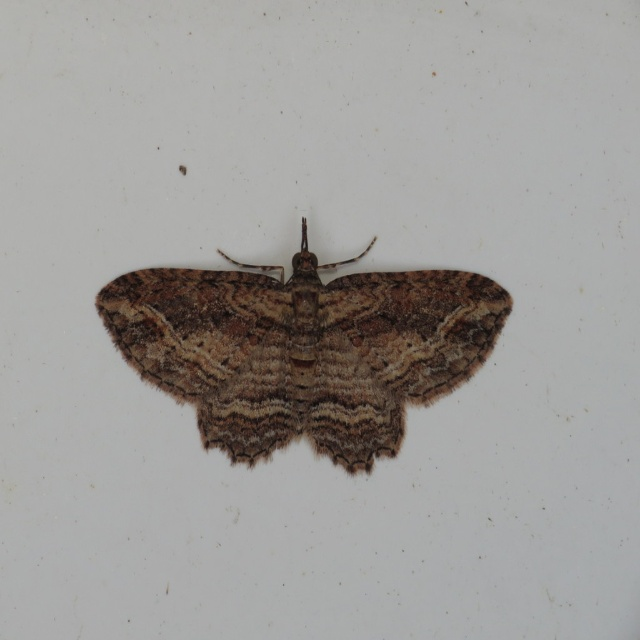Moths and butterflies: (94, 213, 517, 487)
